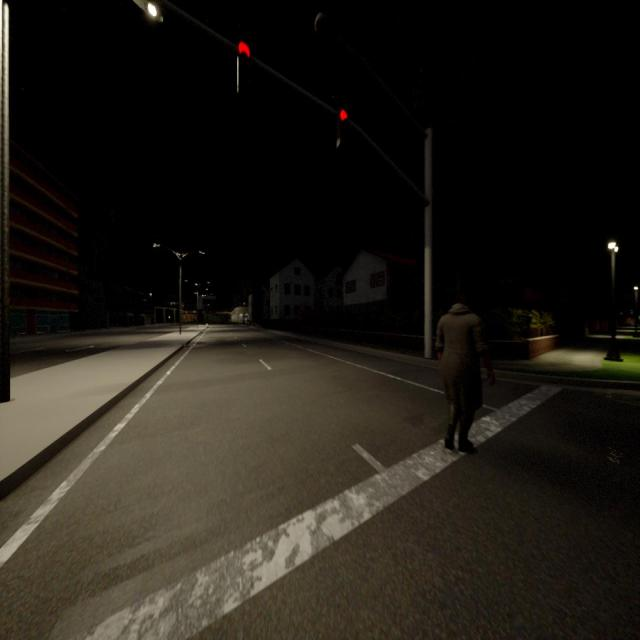Pedestrian: (436, 283, 493, 454)
Vehicle: (248, 320, 252, 325)
traffic_light: (238, 42, 250, 92), (338, 110, 347, 148)
